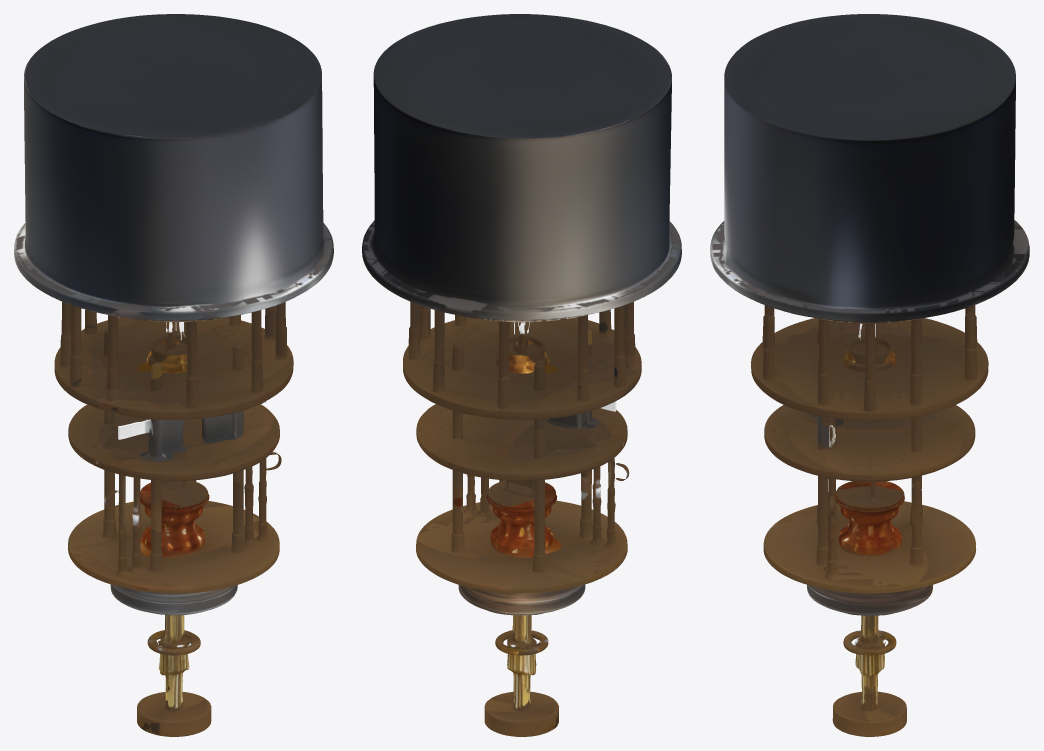
File: quantum-model-shaded.glb
3 views of the same model, side by side, from view 1: azimuth 30°, elevation 25°; view 2: azimuth 150°, elevation 25°; view 3: azimuth 270°, elevation 25° (orthographic).
Visible parts, largest first — view 1: model; view 2: model; view 3: model.
Boxes of the visible parts, box(x1,y1,x2,y2) form: model: box(14, 14, 333, 736); model: box(362, 14, 681, 736); model: box(710, 14, 1029, 736).
Bounding box in the file's own units: 0.8535 × 1.9 × 0.8536.
1 material, 1 textured.
